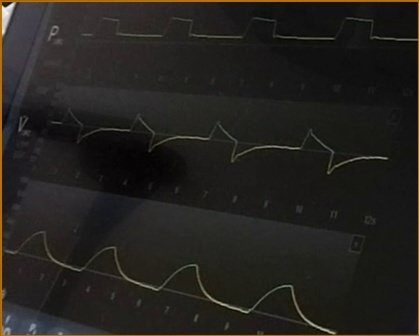Normal Flow: (50, 102, 386, 176)
Normal Volume: (6, 230, 335, 332)
